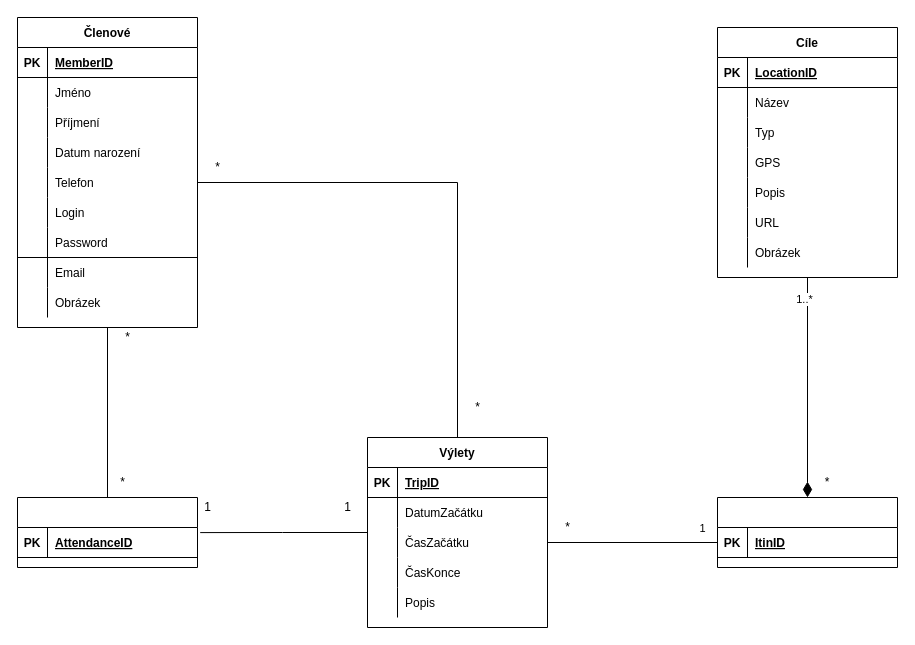
Some shapes in this 915 by 645 pixel diagram are drawn without their labels. Here are the shapes that lost their labels. From the top down, the box of each, then its label:
(16, 496, 198, 568): Docházky
(716, 496, 898, 568): Itineráře
